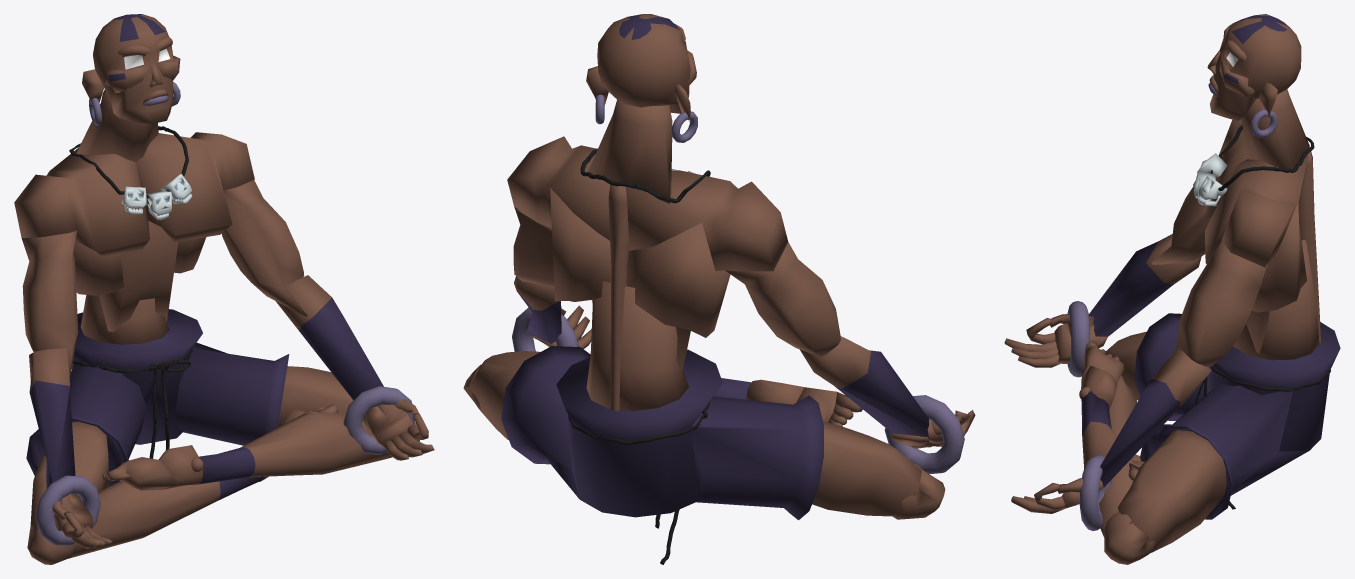
The model's file is dd_violet.fbx.
3 renders of one model, left to right at view 1: azimuth 30°, elevation 25°; view 2: azimuth 150°, elevation 25°; view 3: azimuth 270°, elevation 25°, orthographic. The views are drawn at different scales.
Visible parts, largest first — view 1: DEMI DIEU VIOLET; view 2: DEMI DIEU VIOLET; view 3: DEMI DIEU VIOLET.
Boxes of the visible parts, x1,y1,x2,y2 form: DEMI DIEU VIOLET: (14,14,434,564); DEMI DIEU VIOLET: (463,14,975,564); DEMI DIEU VIOLET: (1004,14,1340,564).
Size of the model in its own units: 125 by 142 by 87.6.
